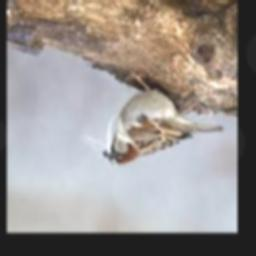Sparrow: (102, 73, 224, 167)
